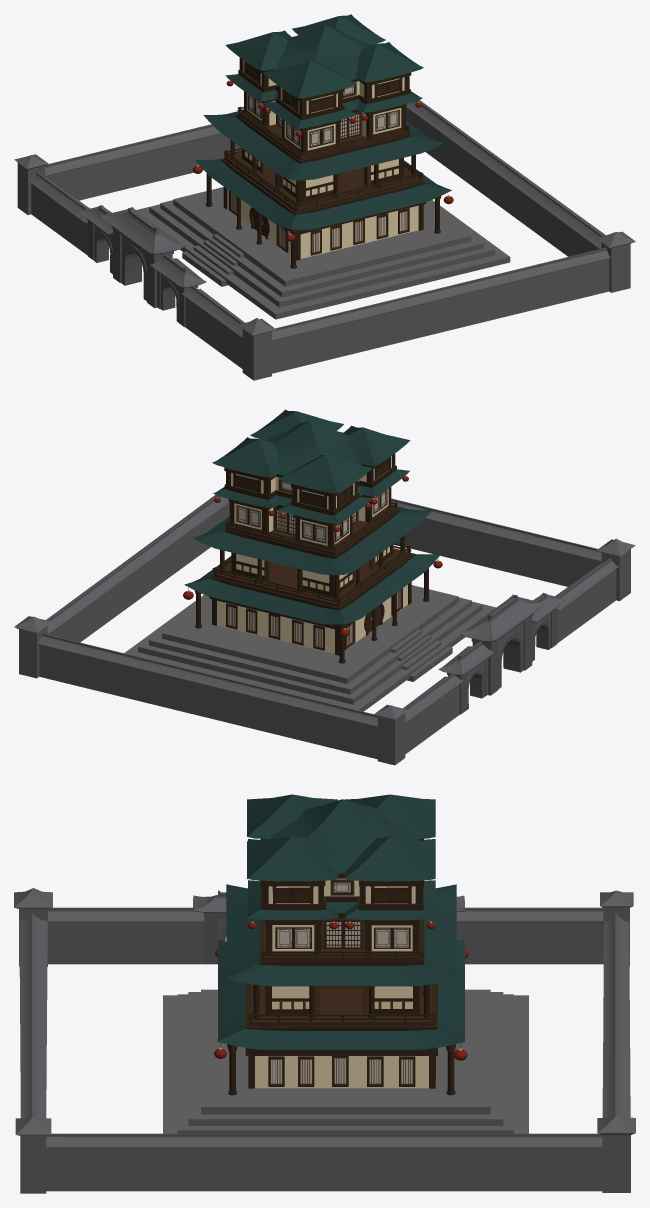
File: castle021_2.fbx
The picture shows the model from 3 angles, top to bottom: view 1: azimuth 30°, elevation 25°; view 2: azimuth 150°, elevation 25°; view 3: azimuth 270°, elevation 25°; orthographic projection. The views are drawn at different scales.
Parts seen in each view (by area): view 1: castle_fence_2, castle_21_2, foundation_castle_2; view 2: castle_fence_2, castle_21_2, foundation_castle_2; view 3: castle_fence_2, castle_21_2, foundation_castle_2.
Boxes of the visible parts, x1,y1,x2,y2 form: castle_fence_2: (14,100,635,380); castle_21_2: (192,14,453,268); foundation_castle_2: (136,187,510,319); castle_fence_2: (14,495,635,765); castle_21_2: (183,409,442,663); foundation_castle_2: (124,585,495,711); castle_fence_2: (14,880,635,1193); castle_21_2: (214,794,468,1095); foundation_castle_2: (163,989,528,1133).
Size of the model in its own units: 8426 by 4518 by 9031.
